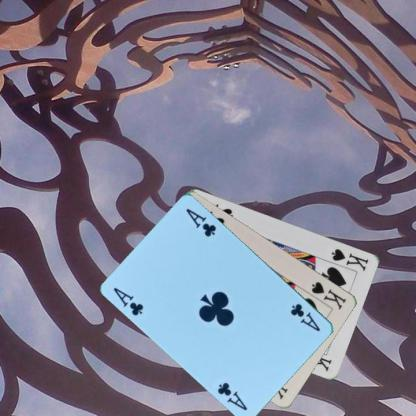Ac: (111, 284, 145, 317), (288, 301, 322, 333)
Ks: (309, 278, 349, 312), (329, 245, 370, 272)
